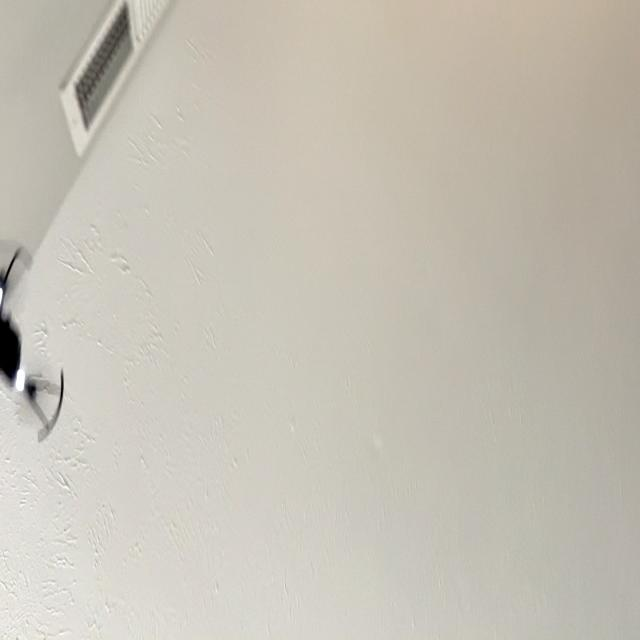drone: (4, 210, 74, 457)
